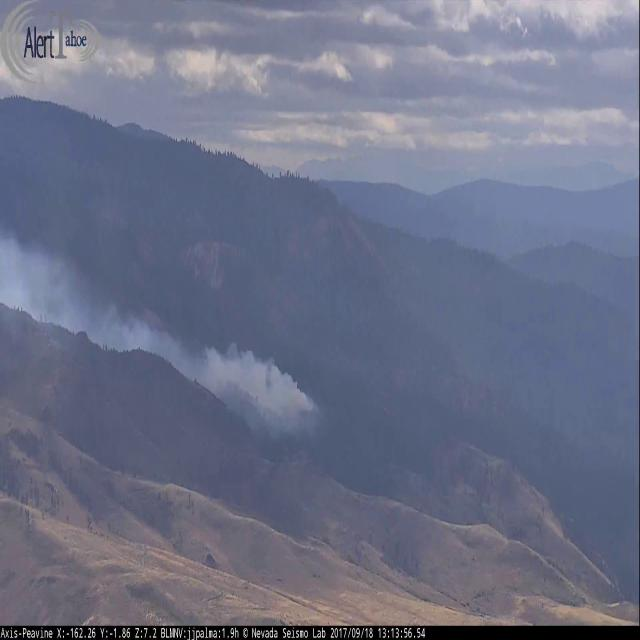smoke: (1, 213, 333, 451)
